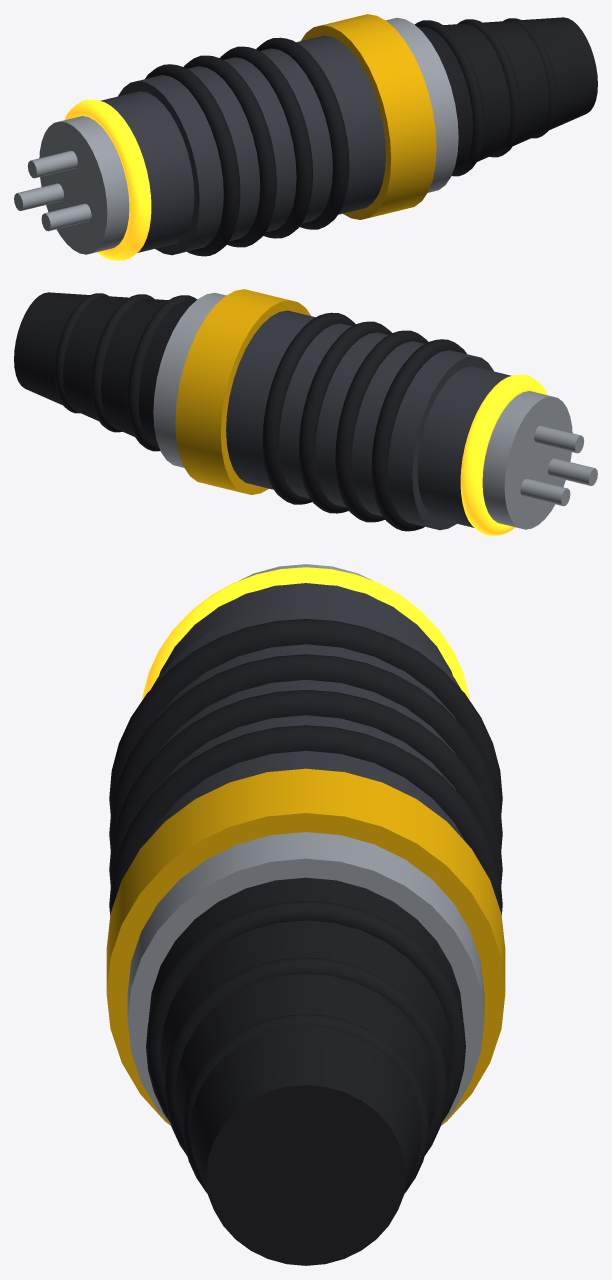
The model's file is plug.glb.
3 renders of one model, top to bottom at view 1: azimuth 30°, elevation 25°; view 2: azimuth 150°, elevation 25°; view 3: azimuth 270°, elevation 25°, orthographic. The views are drawn at different scales.
Parts seen in each view (by area): view 1: cyl.005, cyl.008, cyl.006, cyl.003, cyl.004, ring, cyl.007, ring.001, ring.002, ring.003, ring.004, ring.005 (+5 smaller); view 2: cyl.005, cyl.008, cyl.006, cyl.003, cyl.004, ring, cyl.007, ring.001, ring.002, ring.003, ring.004, ring.005 (+5 smaller); view 3: cyl.008, cyl.006, cyl.007, cyl.005, ring.004, ring.001, ring.002, ring.003, ring.005, ring.006, ring, cyl.004 (+1 smaller).
Boxes of the visible parts, x1,y1,x2,y2 form: cyl.005: (118,35,385,255); cyl.008: (417,17,597,172); cyl.006: (301,14,436,219); cyl.003: (39,116,129,254); cyl.004: (100,91,194,252); ring: (64,99,151,260); cyl.007: (385,17,458,192); ring.001: (145,64,240,256); ring.002: (183,55,276,247); ring.003: (220,46,312,238); ring.004: (256,37,349,229); ring.005: (415,20,484,176); cyl.005: (226,310,493,530); cyl.008: (14,292,194,447); cyl.006: (175,289,310,494); cyl.003: (482,391,572,529); cyl.004: (417,366,511,527); ring: (460,374,547,535); cyl.007: (153,292,226,467); ring.001: (371,339,466,531); ring.002: (335,330,428,522); ring.003: (299,321,391,513); ring.004: (262,312,355,504); ring.005: (127,295,196,451); cyl.008: (148,877,463,1265); cyl.006: (106,768,505,1125); cyl.007: (127,832,484,1123); cyl.005: (146,606,465,841); ring.004: (109,725,502,915); ring.001: (109,619,502,815); ring.002: (109,654,502,850); ring.003: (109,690,502,886); ring.005: (146,901,465,1121); ring.006: (164,957,447,1155); ring: (142,567,469,699); cyl.004: (159,583,452,675).
Bounding box in the file's own units: 0.238 × 0.076 × 0.076.
